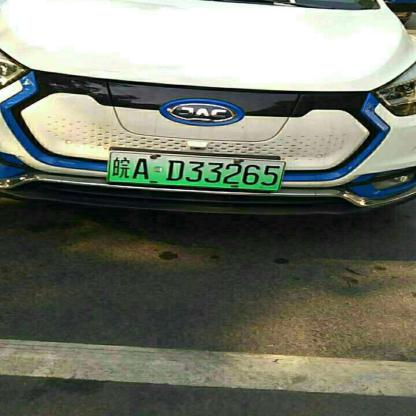lp: (107, 151, 286, 190)
